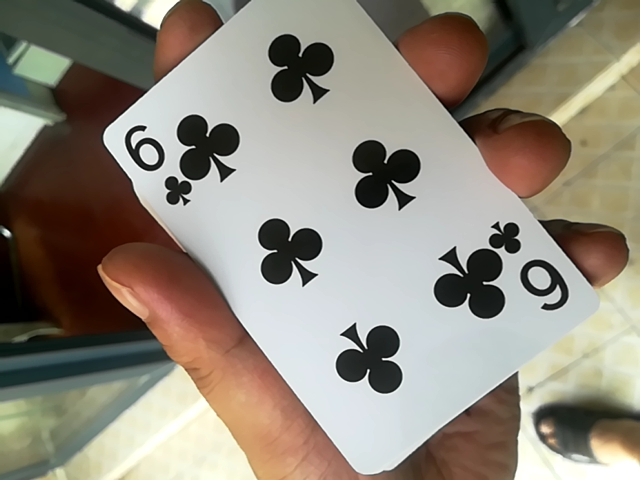mh 6: (91, 7, 595, 474)
